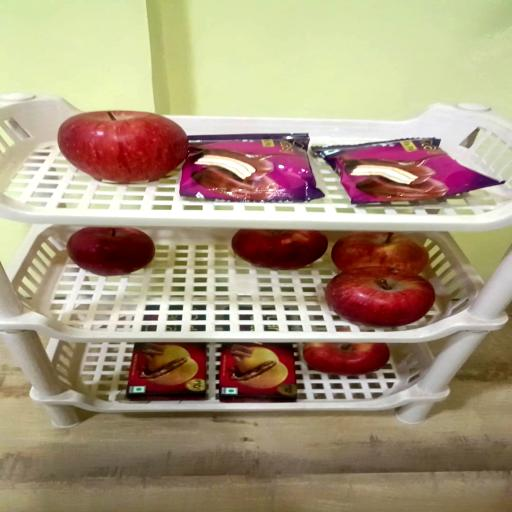Apple: (56, 108, 188, 182), (324, 268, 434, 328), (66, 228, 154, 277), (331, 233, 429, 276), (233, 231, 329, 271), (304, 342, 390, 376)
Choco Fills: (126, 342, 206, 402), (219, 342, 298, 402)
Choco Pie: (314, 140, 503, 206), (181, 132, 326, 202)
